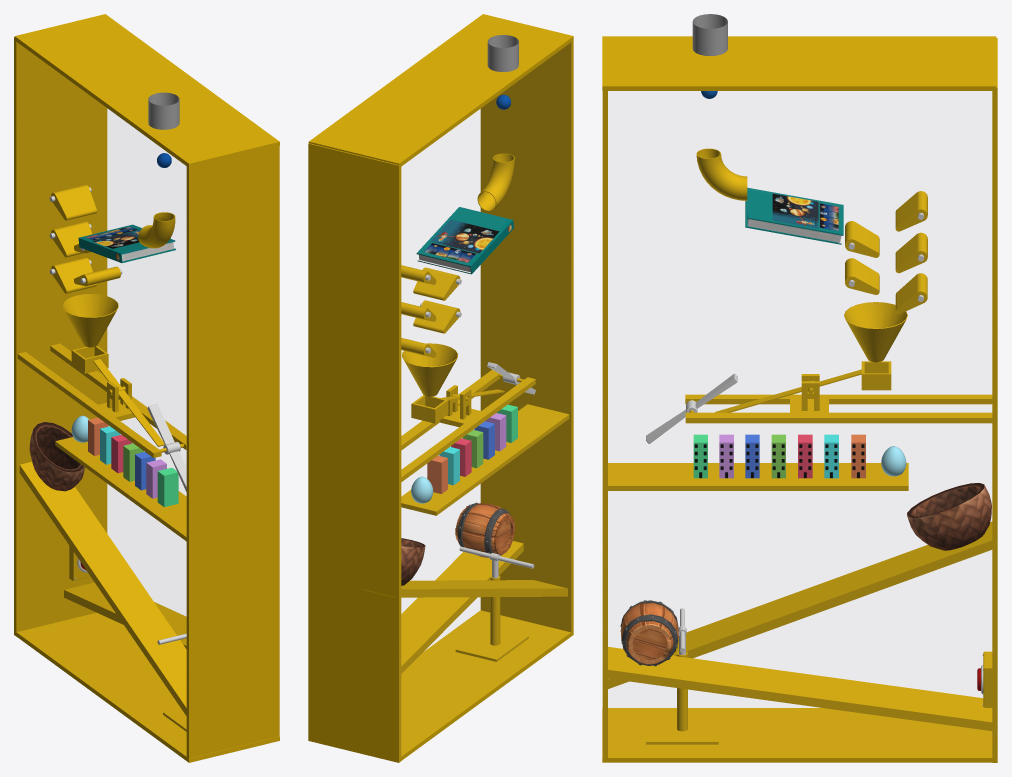
Rendered from Goldberg 1 27. april.fbx.
3 renders of one model, left to right at view 1: azimuth 30°, elevation 25°; view 2: azimuth 150°, elevation 25°; view 3: azimuth 270°, elevation 25°, orthographic. The views are drawn at different scales.
Parts seen in each view (by area): view 1: Masina_1_ram1, Postolje2, Nova_klackalica, Postolje1, Korpa, Levak, Knjiga_iz_vrtica, Kasinka_nova, Postolje3, Fliper4, Fliper3, Elise (+10 smaller); view 2: Masina_1_ram1, Postolje3, Knjiga_iz_vrtica, Postolje1, Nova_klackalica, Postolje2, Burence, Stalak, Levak, Tunel, Kasinka_nova, Fliper (+11 smaller); view 3: Masina_1_ram1, Postolje3, Postolje2, Nova_klackalica, Postolje1, Korpa, Knjiga_iz_vrtica, Burence, Levak, Stalak, Kasinka_nova, Tunel (+13 smaller).
Part boxes in pixels (x1,y1,x2,y2): Masina_1_ram1: (14, 14, 279, 762); Postolje2: (19, 461, 186, 715); Nova_klackalica: (17, 343, 186, 457); Postolje1: (55, 437, 186, 541); Korpa: (29, 422, 84, 491); Levak: (62, 294, 118, 347); Knjiga_iz_vrtica: (78, 224, 175, 262); Kasinka_nova: (71, 346, 164, 446); Postolje3: (64, 582, 186, 648); Fliper4: (49, 184, 96, 220); Fliper3: (49, 257, 96, 293); Elise: (147, 404, 186, 491); Masina_1_ram1: (308, 14, 573, 762); Postolje3: (401, 541, 523, 673); Knjiga_iz_vrtica: (416, 207, 514, 274); Postolje1: (401, 404, 569, 515); Nova_klackalica: (401, 369, 535, 481); Postolje2: (361, 580, 567, 597); Burence: (455, 502, 514, 557); Stalak: (455, 575, 528, 661); Levak: (402, 343, 457, 396); Tunel: (477, 153, 514, 211); Kasinka_nova: (411, 389, 504, 423); Fliper: (413, 267, 461, 300); Masina_1_ram1: (602, 14, 997, 762); Postolje3: (608, 647, 992, 730); Postolje2: (608, 521, 992, 688); Nova_klackalica: (685, 374, 992, 423); Postolje1: (608, 463, 908, 490); Korpa: (907, 483, 991, 550); Knjiga_iz_vrtica: (745, 187, 843, 244); Burence: (620, 600, 678, 666); Levak: (844, 302, 907, 362); Stalak: (646, 651, 718, 744); Kasinka_nova: (715, 361, 891, 412); Tunel: (696, 148, 747, 200).
Size of the model in its own units: 8.1 by 51.04 by 25.98.
19 materials, 11 textured.
